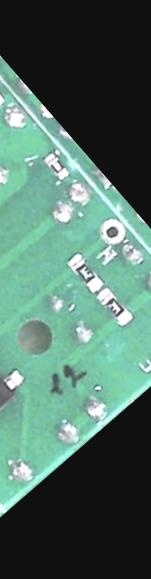chip-resistor: (62, 248, 108, 297), (93, 285, 135, 329), (39, 149, 73, 185)
